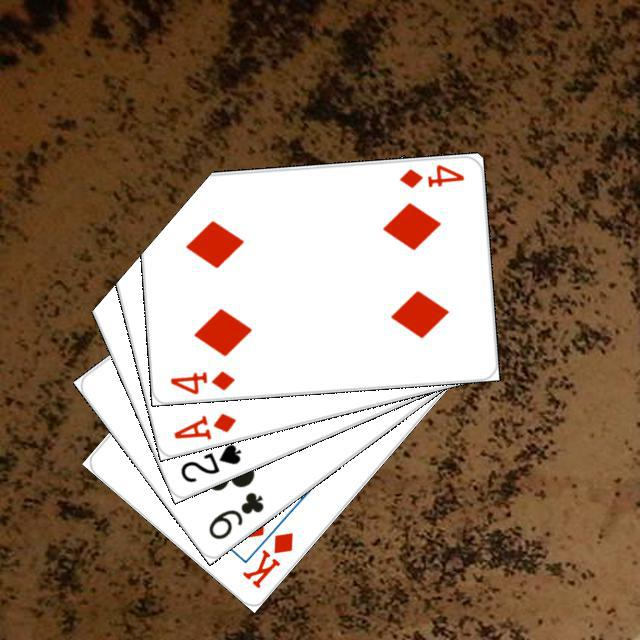2s: (175, 438, 243, 485)
4d: (394, 159, 466, 190), (165, 366, 236, 395)
9c: (203, 487, 266, 542)
Ad: (168, 408, 238, 441)
Kd: (237, 527, 295, 591)
